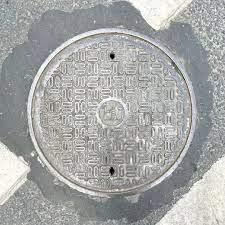wellcover: (25, 21, 199, 203)
